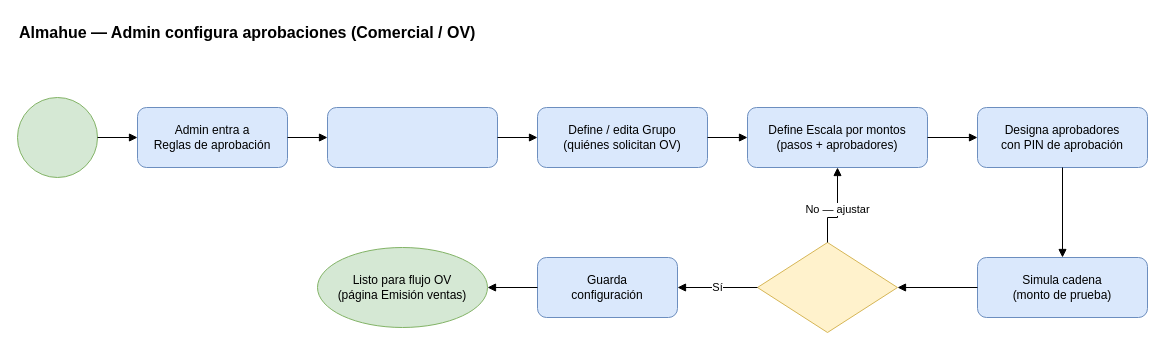
Image size: 1165x350. Some labels were removed from this diagram. Each missing label, with the box of its shape:
Elige módulo Comercial (órdenes de venta): (326, 106, 498, 168)
Inicio: (16, 96, 98, 178)
¿Cadena OK?: (756, 242, 898, 332)
